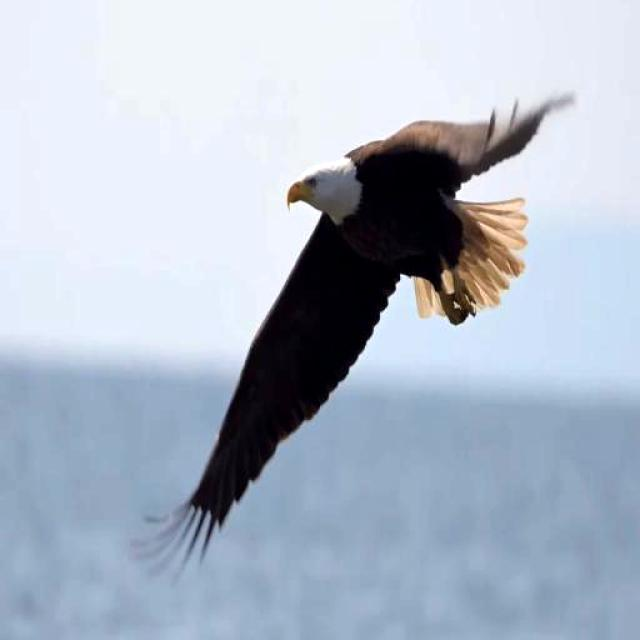airplane: (166, 92, 574, 591)
